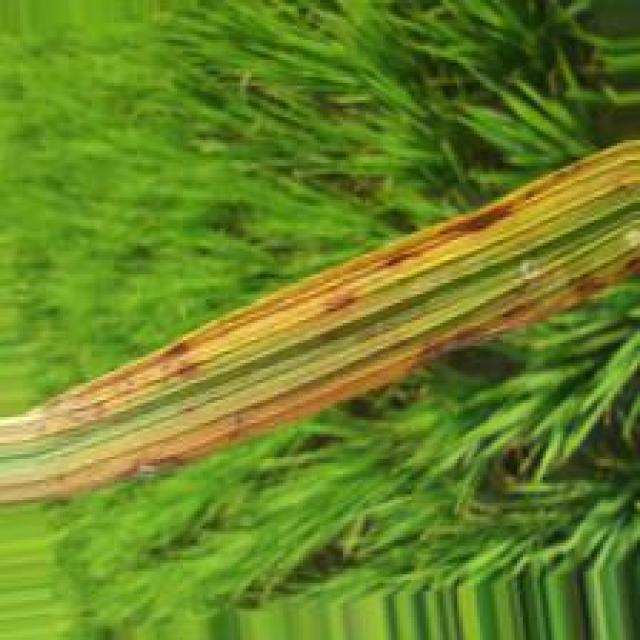Narrow_Brown_Leaf_Spot: (0, 140, 640, 447), (0, 245, 640, 510)
